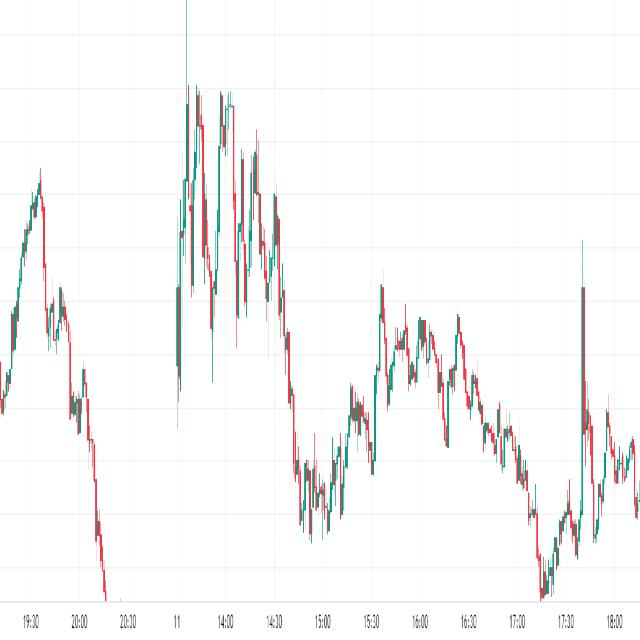Falling-Wedge: (6, 143, 105, 497)
Rounding-Bottom: (287, 381, 357, 542)
Rounding-Top: (326, 271, 542, 533)
Triangle: (168, 0, 326, 420), (536, 292, 640, 628)
